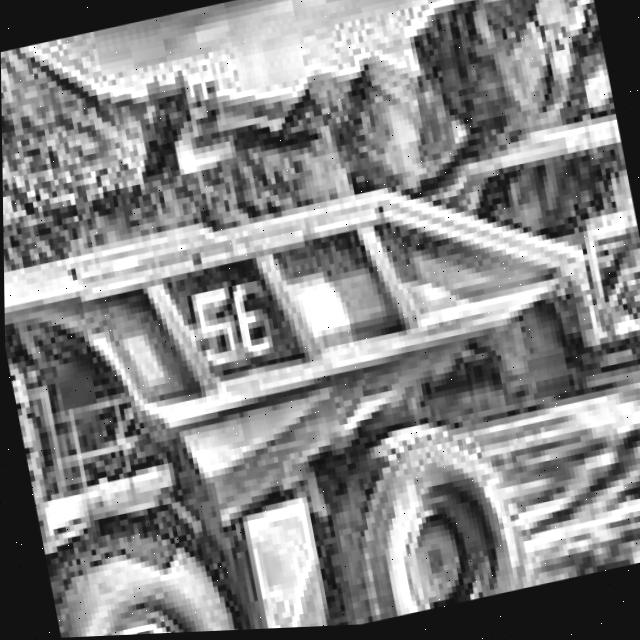dump_truck: (2, 111, 640, 640)
